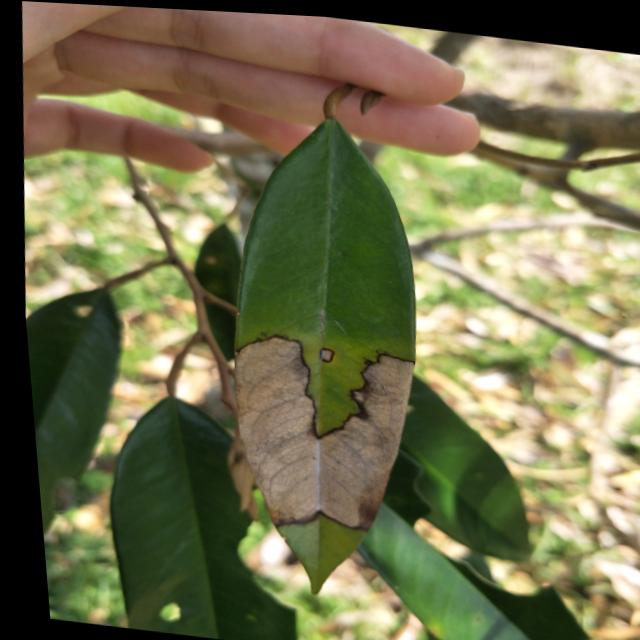Leaf Blight: (186, 309, 434, 559), (310, 331, 335, 364)
